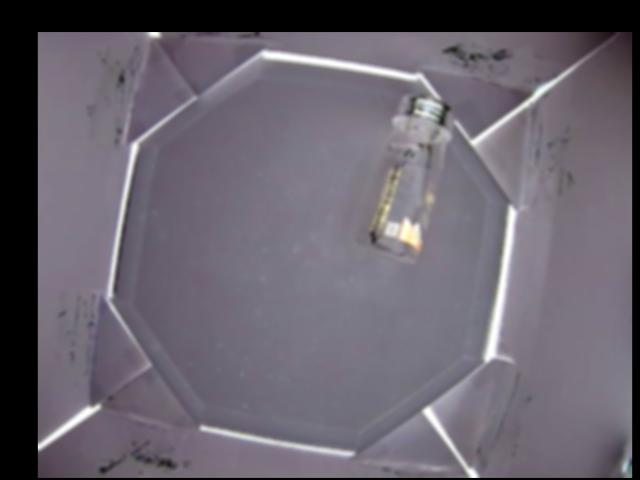Bottle: (356, 95, 452, 261)
